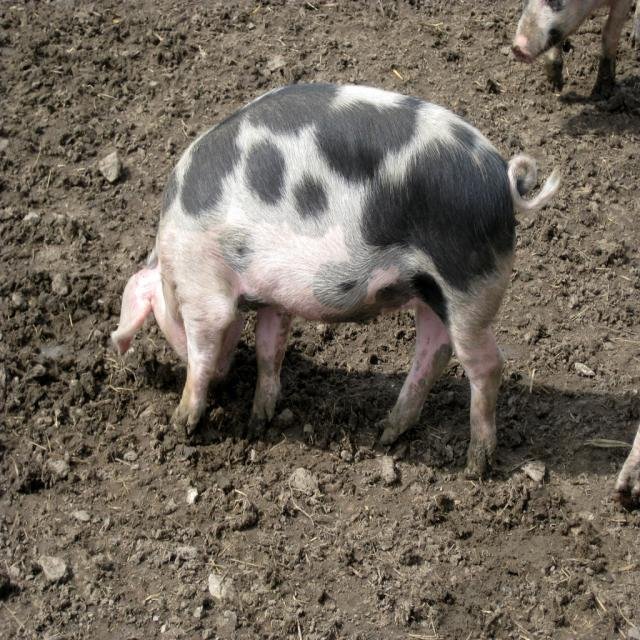Pig: (109, 80, 565, 479), (512, 0, 640, 100), (611, 423, 639, 502)
